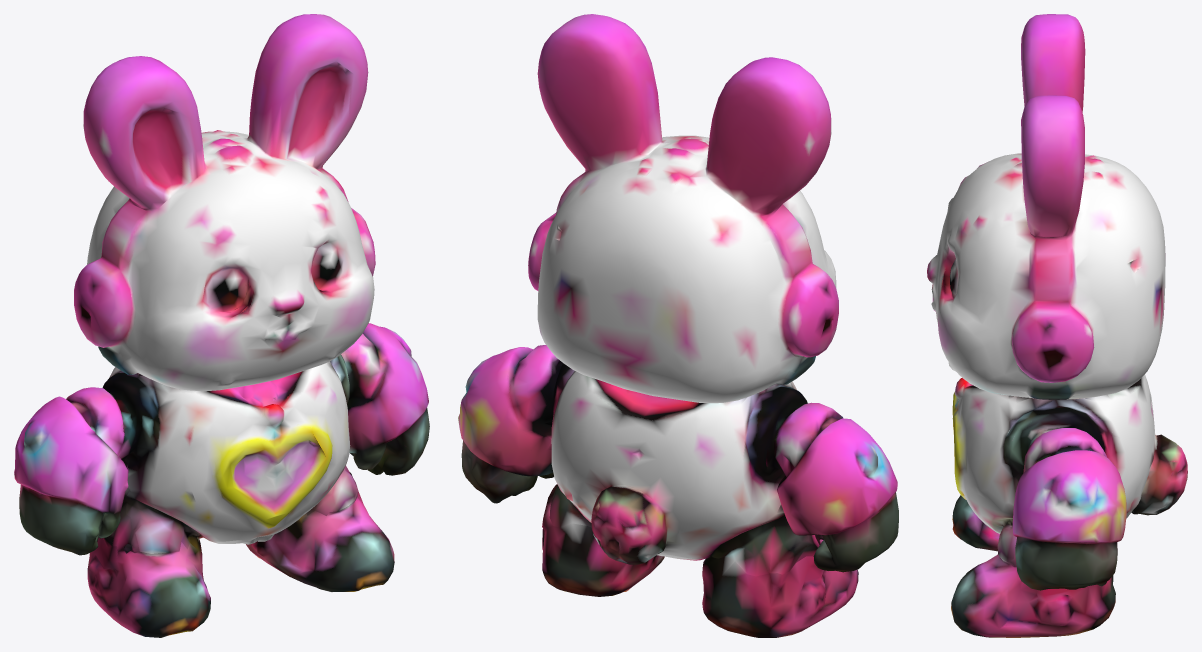
The model's file is bunny_robot.glb.
3 renders of one model, left to right at view 1: azimuth 30°, elevation 25°; view 2: azimuth 150°, elevation 25°; view 3: azimuth 270°, elevation 25°, orthographic. The views are drawn at different scales.
Visible parts, largest first — view 1: Part_Head, Part_Torso, Part_ArmL, Part_ArmR, Part_LegL, Part_LegR; view 2: Part_Head, Part_Torso, Part_ArmL, Part_ArmR, Part_LegL, Part_LegR; view 3: Part_Head, Part_Torso, Part_ArmR, Part_LegR, Part_LegL.
Boxes of the visible parts, box(x1,y1,x2,y2) form: Part_Head: box(74, 14, 375, 393); Part_Torso: box(102, 353, 357, 553); Part_ArmL: box(14, 387, 141, 555); Part_ArmR: box(342, 323, 429, 500); Part_LegL: box(87, 535, 258, 637); Part_LegR: box(246, 491, 394, 591); Part_Head: box(528, 14, 838, 407); Part_Torso: box(541, 361, 807, 576); Part_ArmL: box(769, 402, 898, 574); Part_ArmR: box(458, 345, 562, 517); Part_LegL: box(657, 539, 858, 637); Part_LegR: box(542, 506, 664, 596); Part_Head: box(927, 14, 1165, 402); Part_Torso: box(952, 374, 1187, 561); Part_ArmR: box(1008, 428, 1126, 590); Part_LegR: box(951, 532, 1115, 637); Part_LegL: box(952, 495, 999, 551).
Size of the model in its own units: 4.31 by 5.54 by 2.51.
Materials: 1 (1 with a texture image).
